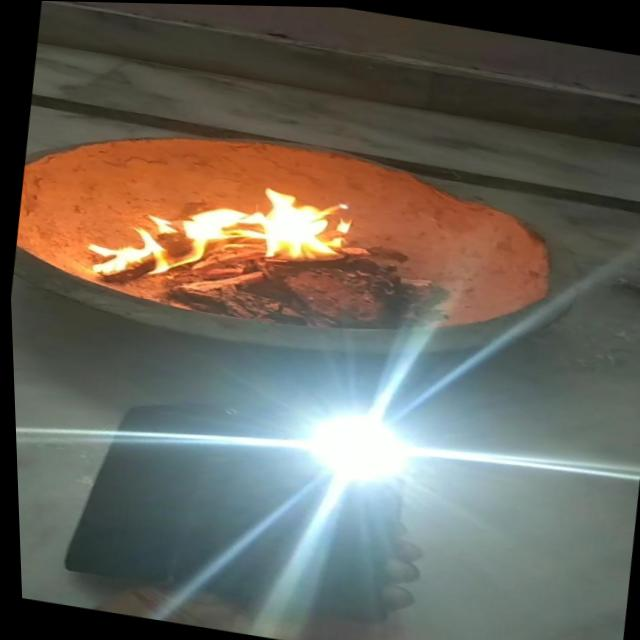fire: (171, 164, 362, 274), (72, 198, 202, 295)
